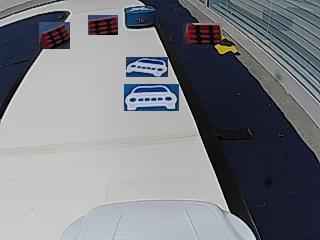prop: (125, 5, 156, 29)
